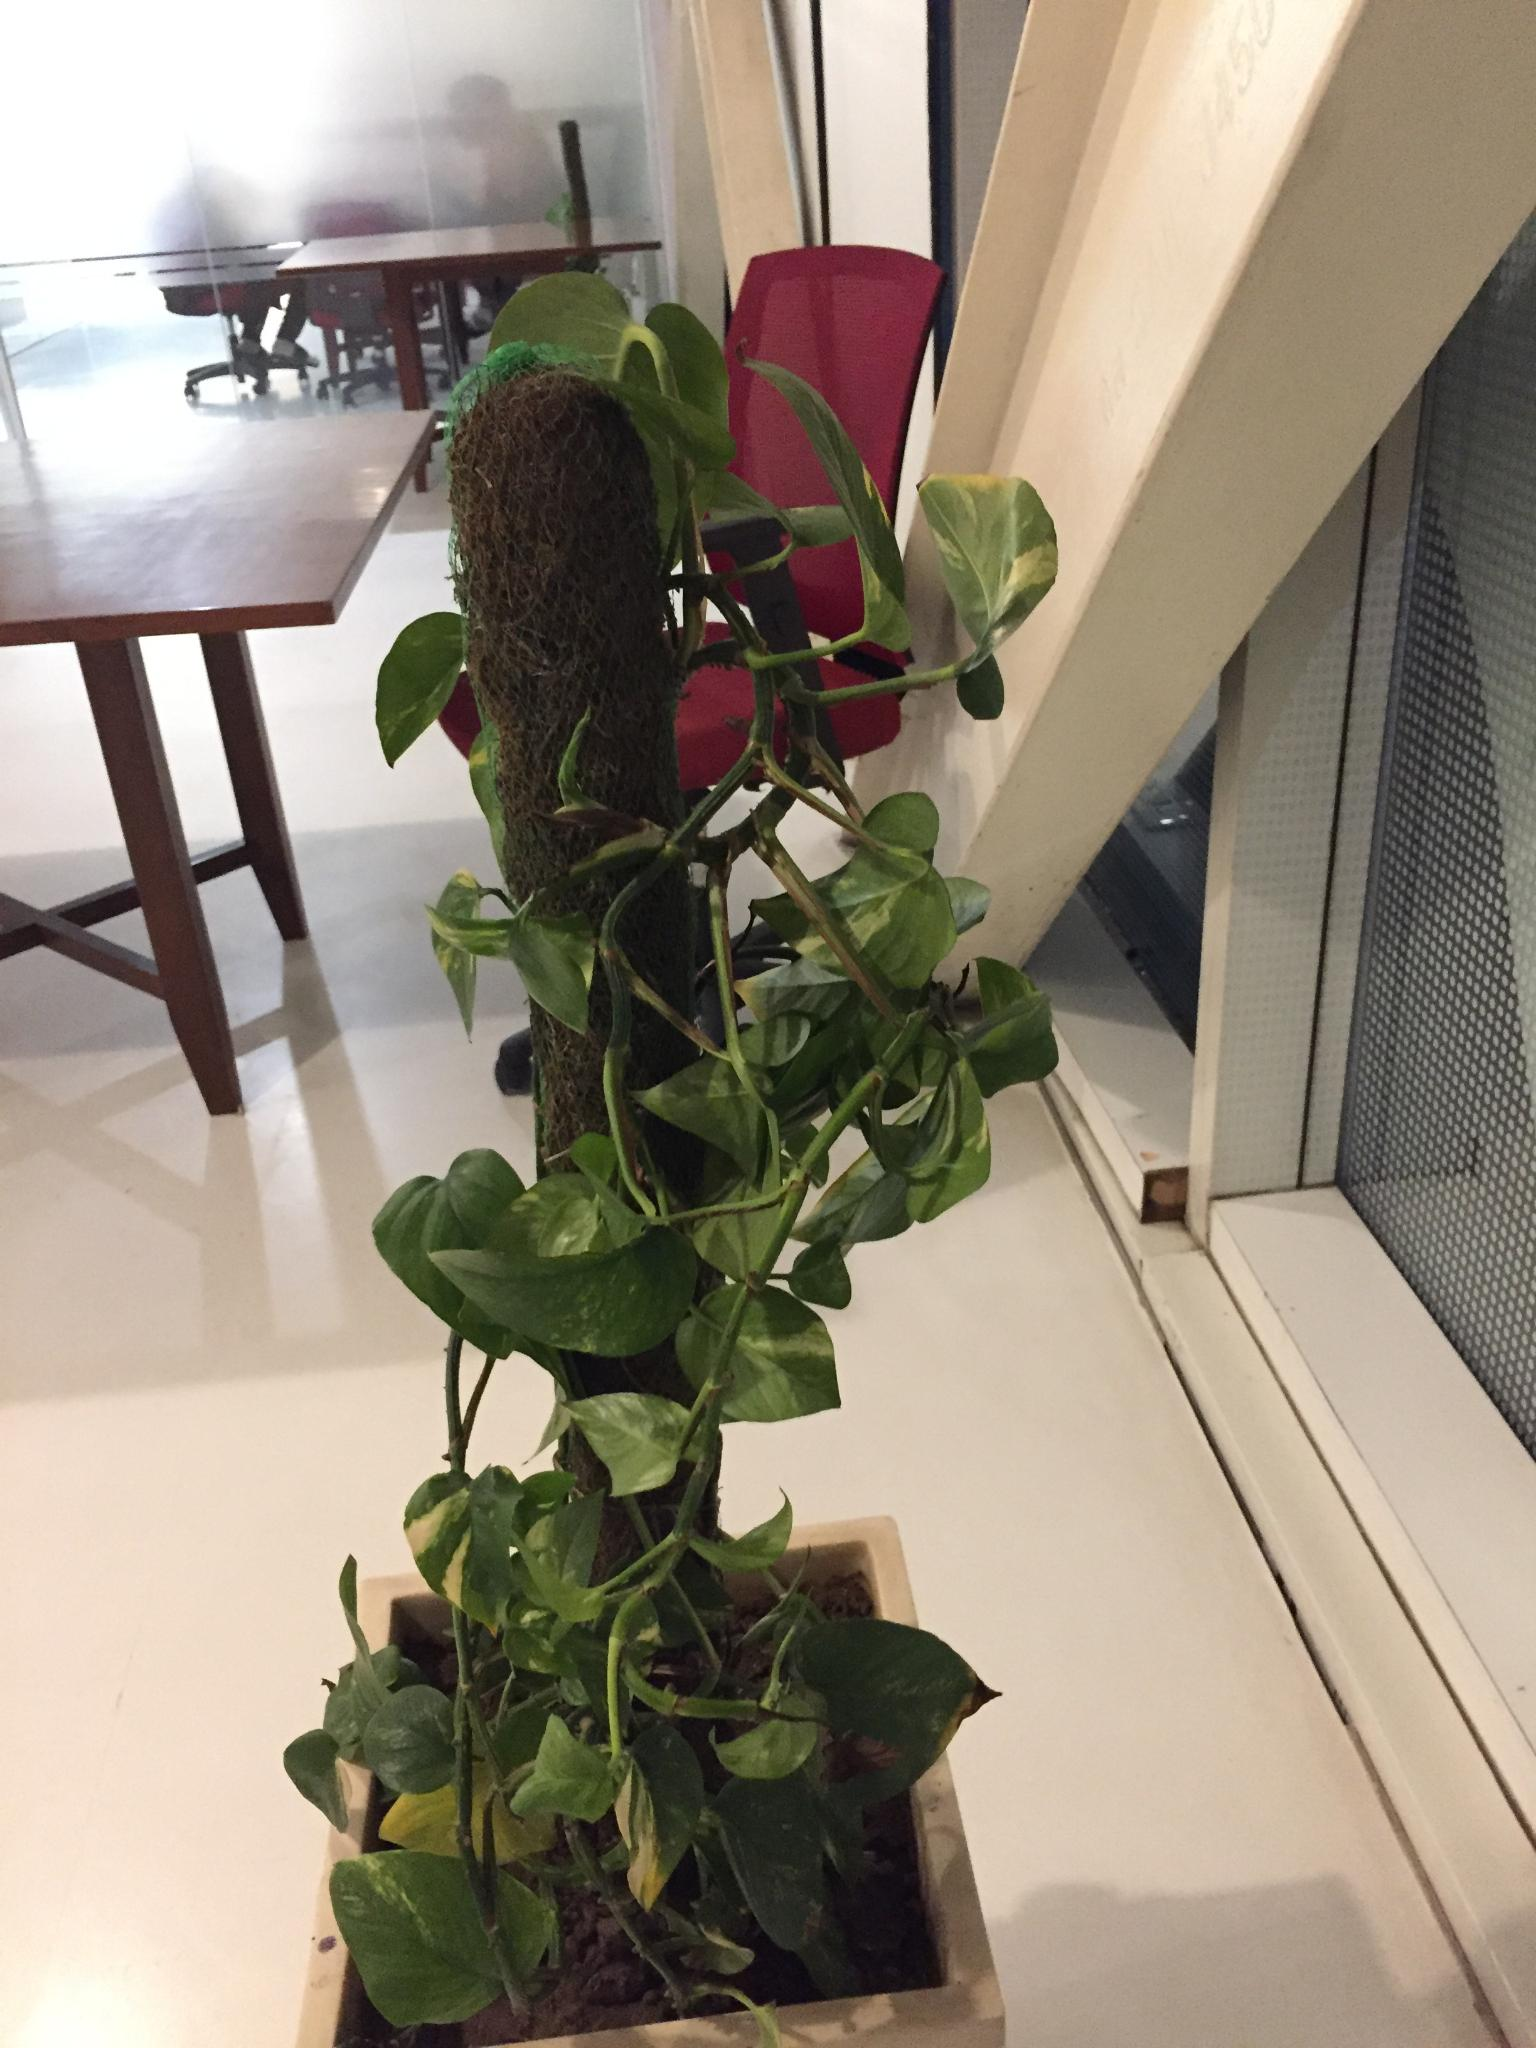chair: (402, 237, 976, 1109), (148, 161, 319, 403)
